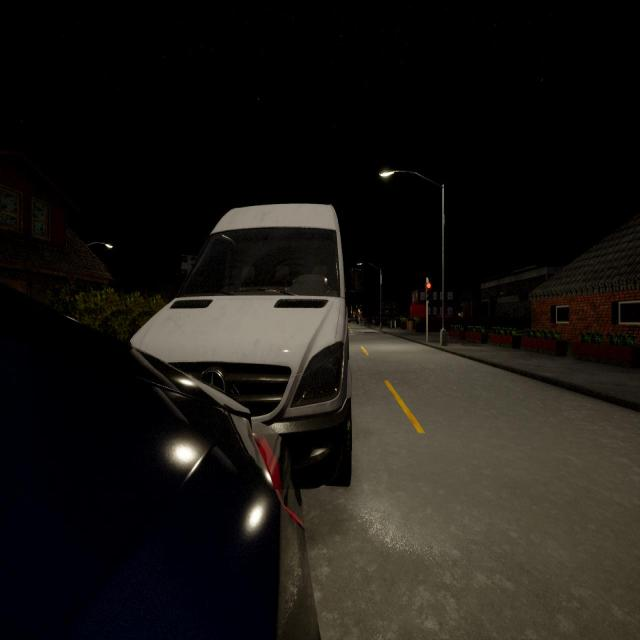Vehicle: (0, 312, 311, 638), (132, 207, 358, 488)
traffic_light: (426, 283, 432, 300)
